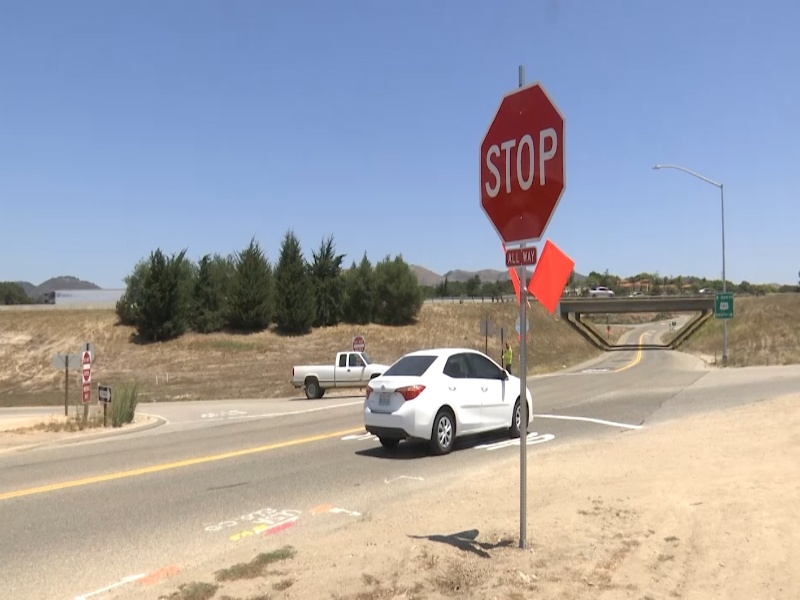stop sign: (476, 79, 568, 245)
